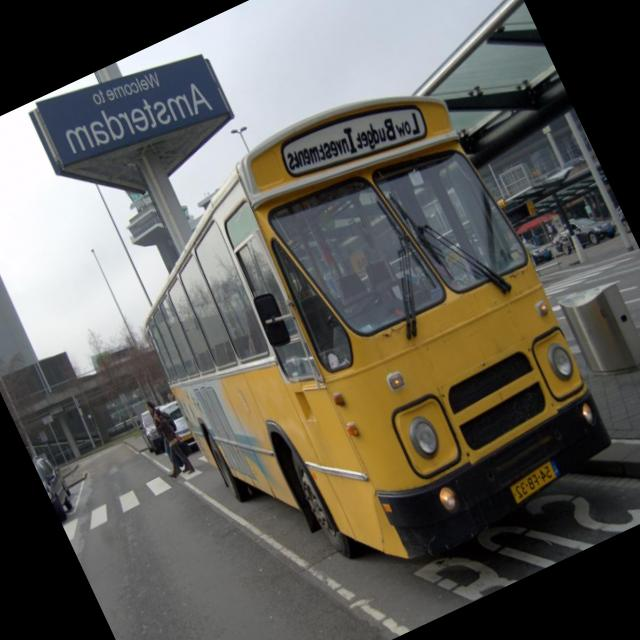bus: (89, 56, 634, 630)
